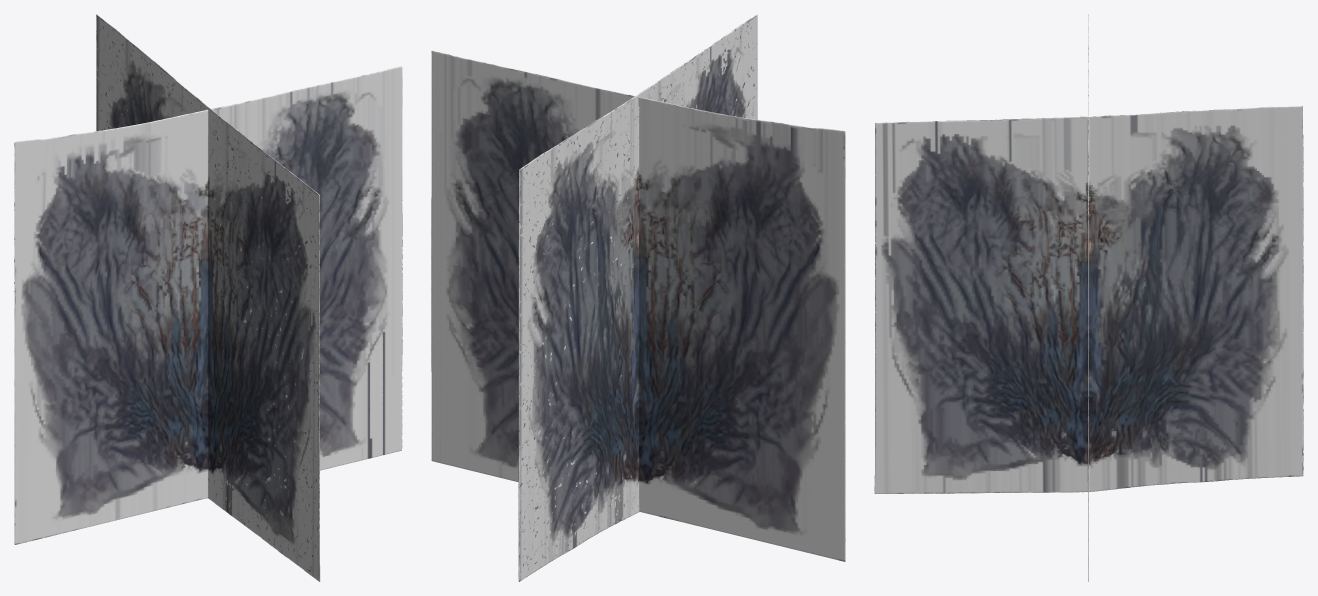
File: Miscellaneous [0_a5lm].glb
The picture shows the model from 3 angles, left to right: view 1: azimuth 30°, elevation 25°; view 2: azimuth 150°, elevation 25°; view 3: azimuth 270°, elevation 25°; orthographic projection. The views are drawn at different scales.
Visible parts, largest first — view 1: world; view 2: world; view 3: world.
Part boxes in pixels (bbox=[...]): world: bbox=[14, 14, 402, 581]; world: bbox=[431, 14, 845, 581]; world: bbox=[874, 14, 1303, 581].
Size of the model in its own units: 1 by 1 by 0.9997.
Materials: 1 (1 with a texture image).
